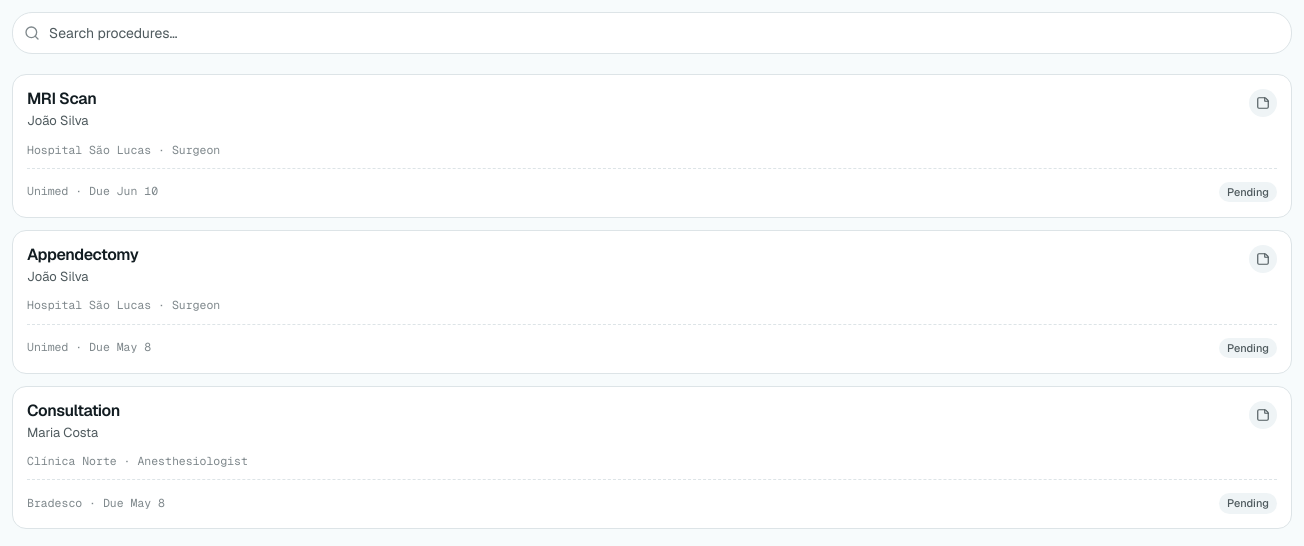
Test case: ProcedureList search › filters by due date month when different from procedure date month
In the search field with placeholder "Search procedures…": {"x": 652, "y": 33} [12,12,1292,54], type "june"
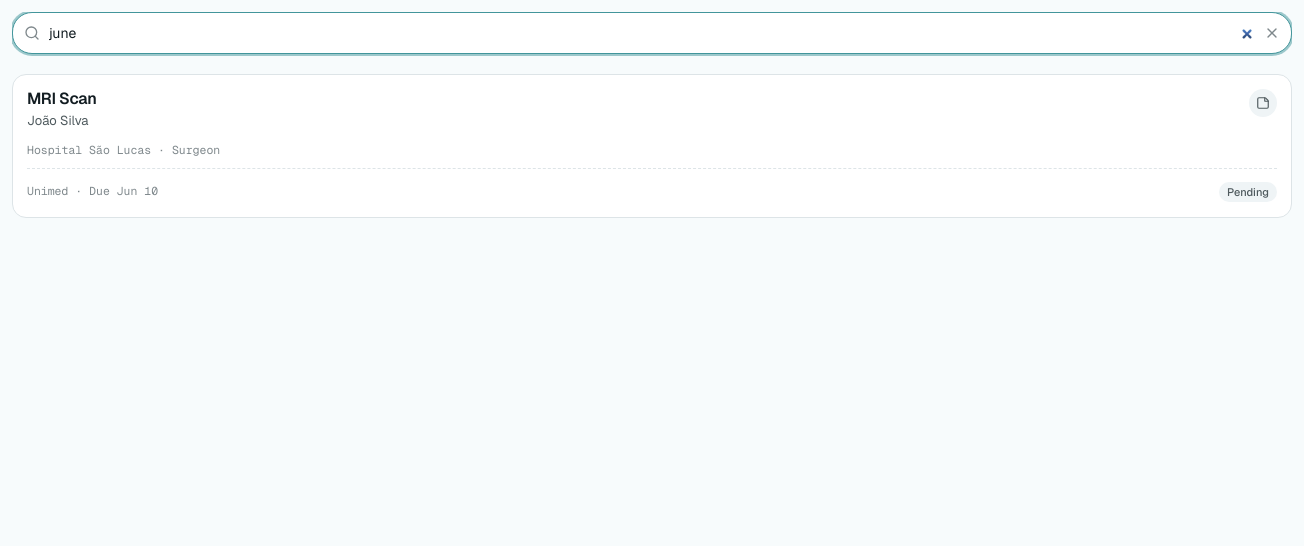
Check: the text "MRI Scan" is shown, box [27,88,96,109]
Check: the text "Appendectomy" is gone
Check: the text "Consultation" is gone
